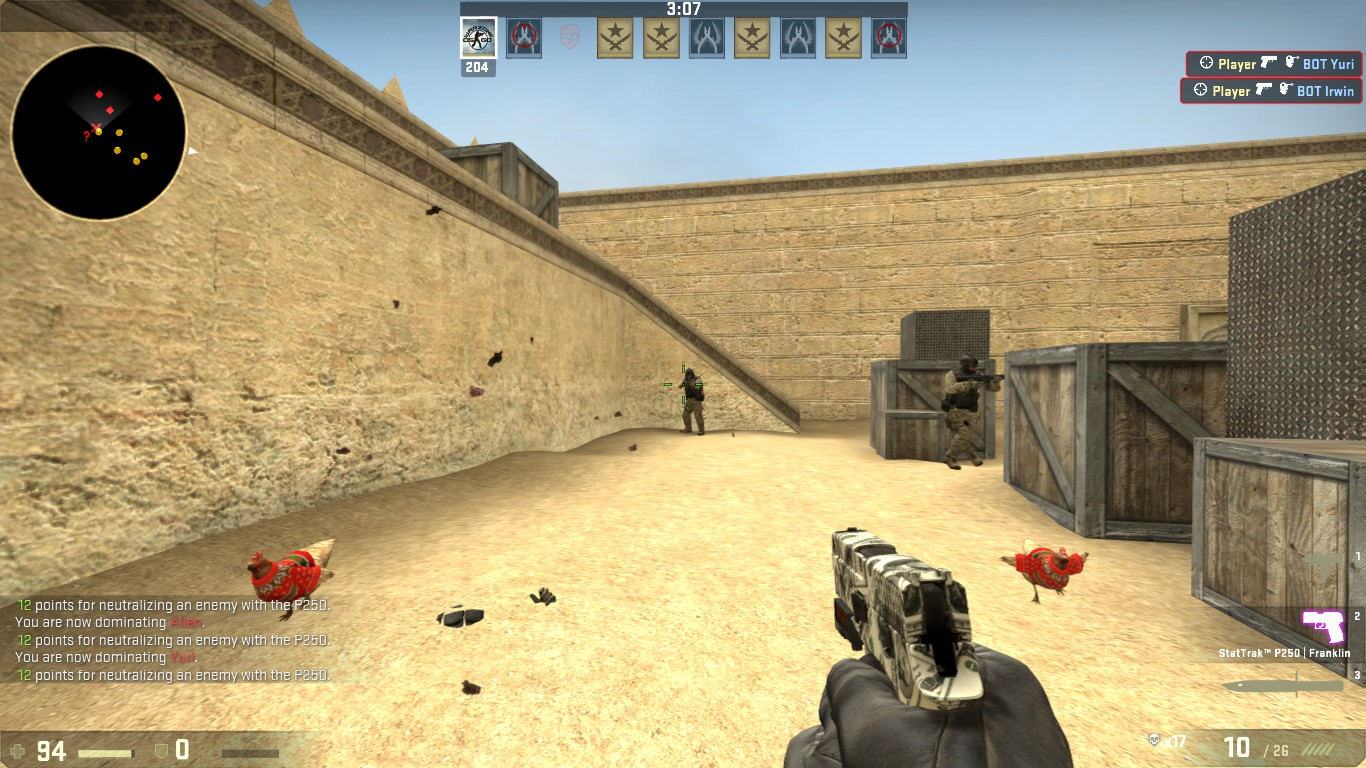c: (945, 353, 988, 469), (681, 368, 705, 437)
ch: (958, 352, 980, 379), (684, 368, 695, 383)
